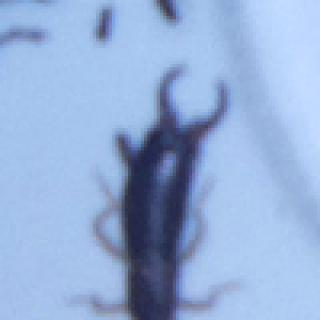earwig: (87, 66, 244, 320)
